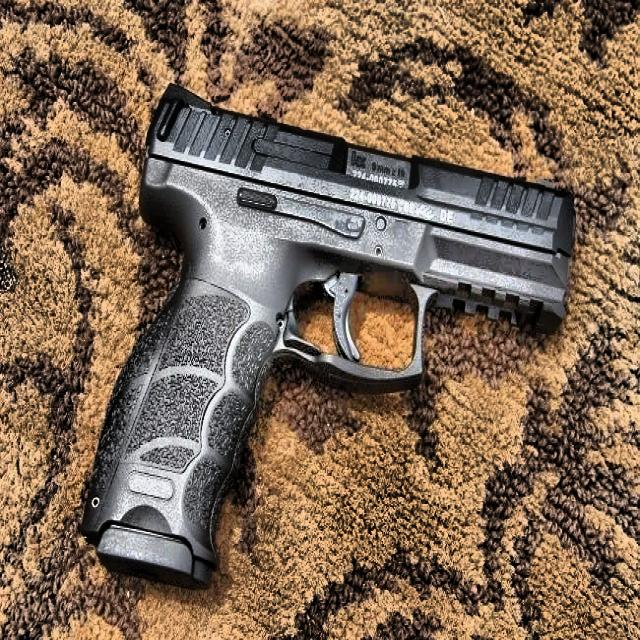HKVP9: (79, 78, 576, 590)
